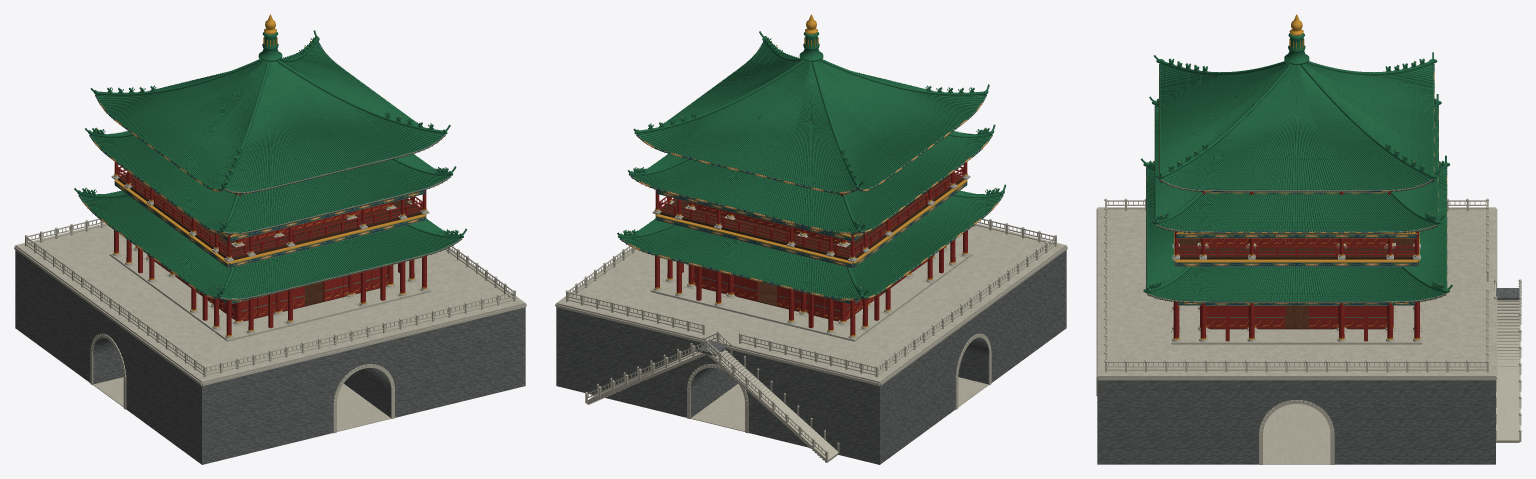
The model's file is xian-bell-tower.glb.
3 renders of one model, left to right at view 1: azimuth 30°, elevation 25°; view 2: azimuth 150°, elevation 25°; view 3: azimuth 270°, elevation 25°, orthographic. The views are drawn at different scales.
Parts seen in each view (by area): view 1: Base_brick, RoofUpper_green, Base_stone, RoofLower_green, RoofMiddle_green, Railings_stone, Columns_red, Floors_wood, Doors_red, Vaults_brick, Beams_paint, Railings_red (+7 smaller); view 2: Base_brick, RoofUpper_green, Base_stone, RoofLower_green, RoofMiddle_green, Railings_stone, StairsExterior_stone, Columns_red, Floors_wood, Doors_red, Beams_paint, Railings_red (+8 smaller); view 3: RoofUpper_green, Base_stone, Base_brick, RoofLower_green, RoofMiddle_green, Doors_red, Railings_stone, Vaults_stone, StairsExterior_stone, Floors_wood, Beams_paint, Columns_red (+9 smaller).
Boxes of the visible parts, box(x1,y1,x2,y2) form: Base_brick: box(15, 247, 525, 464); RoofUpper_green: box(90, 30, 450, 192); Base_stone: box(14, 223, 526, 385); RoofLower_green: box(74, 188, 466, 298); RoofMiddle_green: box(85, 127, 456, 232); Railings_stone: box(25, 218, 516, 377); Columns_red: box(114, 162, 426, 335); Floors_wood: box(117, 174, 421, 321); Doors_red: box(154, 203, 389, 320); Vaults_brick: box(93, 303, 391, 389); Beams_paint: box(114, 182, 426, 303); Railings_red: box(117, 166, 422, 256); Base_brick: box(556, 247, 1066, 464); RoofUpper_green: box(633, 31, 989, 192); Base_stone: box(555, 223, 1067, 385); RoofLower_green: box(617, 184, 1006, 298); RoofMiddle_green: box(627, 124, 995, 232); Railings_stone: box(565, 219, 1056, 377); StairsExterior_stone: box(585, 331, 839, 462); Columns_red: box(655, 162, 967, 335); Floors_wood: box(660, 174, 964, 321); Doors_red: box(693, 203, 927, 320); Beams_paint: box(655, 182, 967, 303); Railings_red: box(659, 166, 964, 256); RoofUpper_green: box(1154, 52, 1439, 190); Base_stone: box(1096, 207, 1497, 380); Base_brick: box(1097, 209, 1495, 464); RoofLower_green: box(1140, 155, 1452, 301); RoofMiddle_green: box(1149, 94, 1444, 231); Doors_red: box(1205, 238, 1387, 328); Railings_stone: box(1104, 198, 1489, 372); Vaults_stone: box(1263, 404, 1330, 464); StairsExterior_stone: box(1494, 279, 1521, 442); Floors_wood: box(1178, 238, 1414, 329); Beams_paint: box(1174, 192, 1419, 305); Columns_red: box(1173, 191, 1419, 341).
Size of the model in its own units: 35.72 by 36 by 37.89.
Materials: 8 (8 with a texture image).
